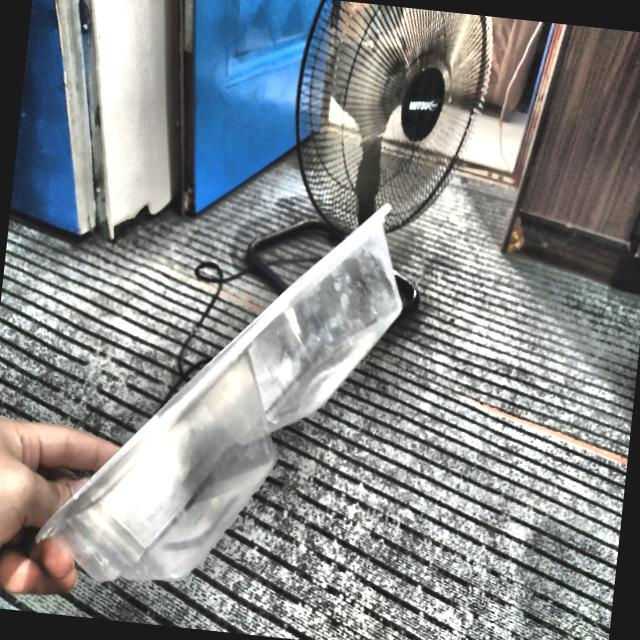plastic container: (38, 203, 402, 581)
